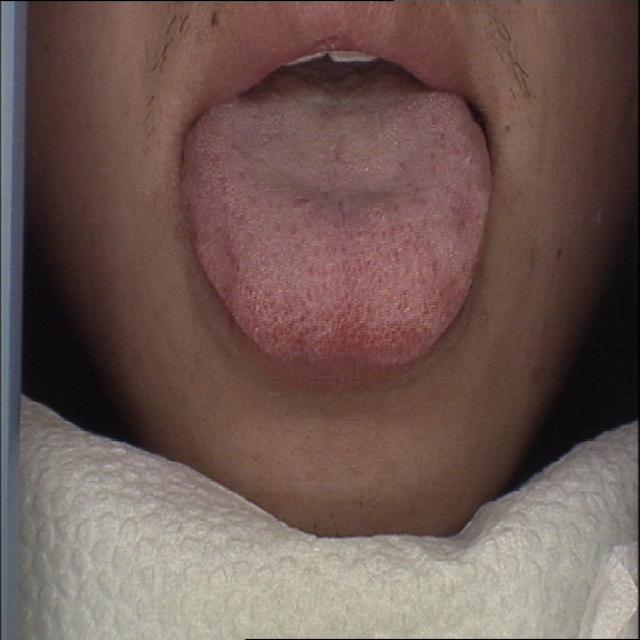tongue: (170, 80, 502, 380)
